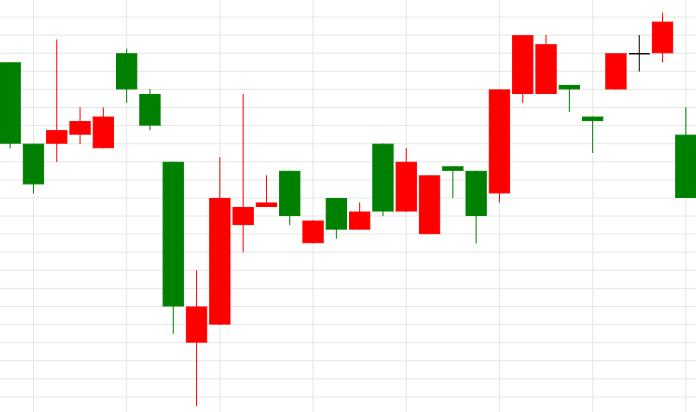three_black_crows_fall: (23, 38, 184, 334)
